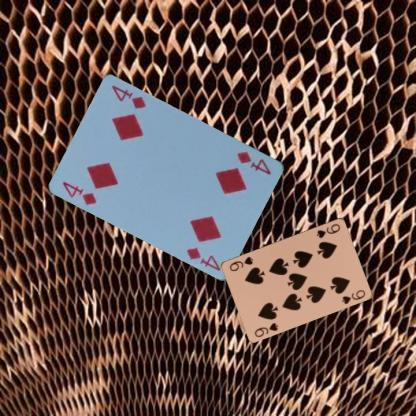4d: (60, 179, 99, 206), (235, 148, 272, 176)
9s: (252, 320, 280, 338), (314, 221, 341, 239)
